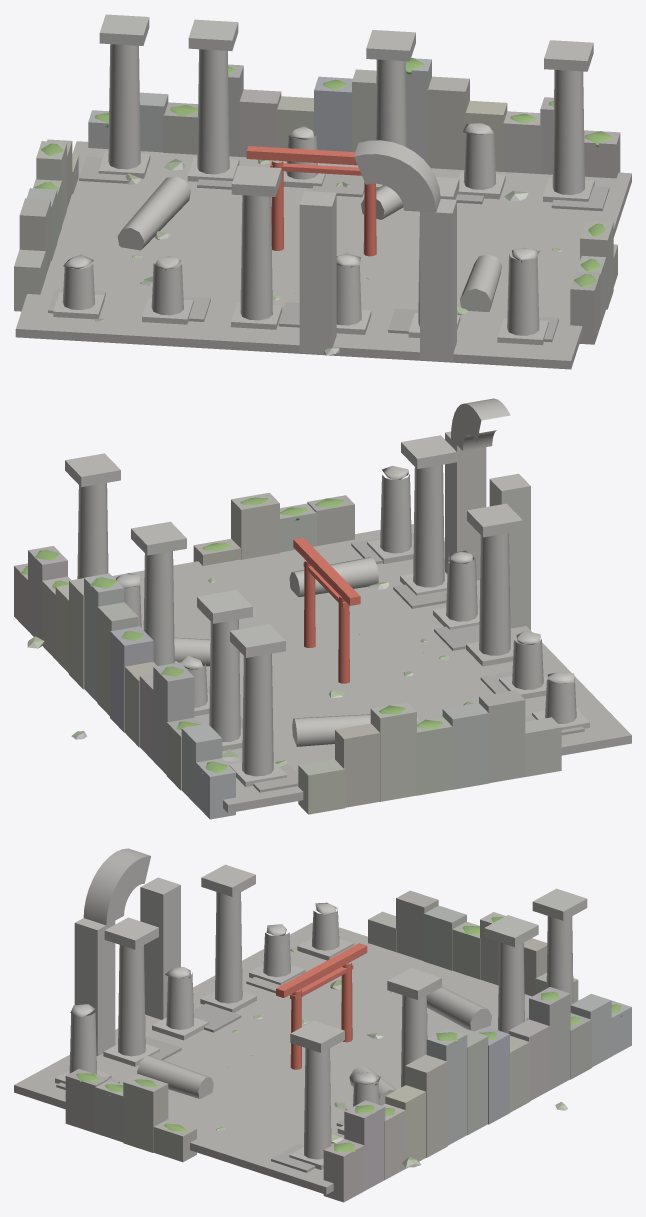
Rendered from struct_8_1.glb.
3 renders of one model, top to bottom at view 1: azimuth 30°, elevation 25°; view 2: azimuth 150°, elevation 25°; view 3: azimuth 270°, elevation 25°, orthographic. The views are drawn at different scales.
Parts seen in each view (by area): view 1: Landmarks; view 2: Landmarks; view 3: Landmarks.
Part boxes in pixels (left/top/right/bottom): Landmarks: left=14, top=14, right=631, bottom=369; Landmarks: left=14, top=398, right=631, bottom=819; Landmarks: left=14, top=848, right=631, bottom=1202.
Bounding box in the file's own units: 30.73 × 10.2 × 30.01.
